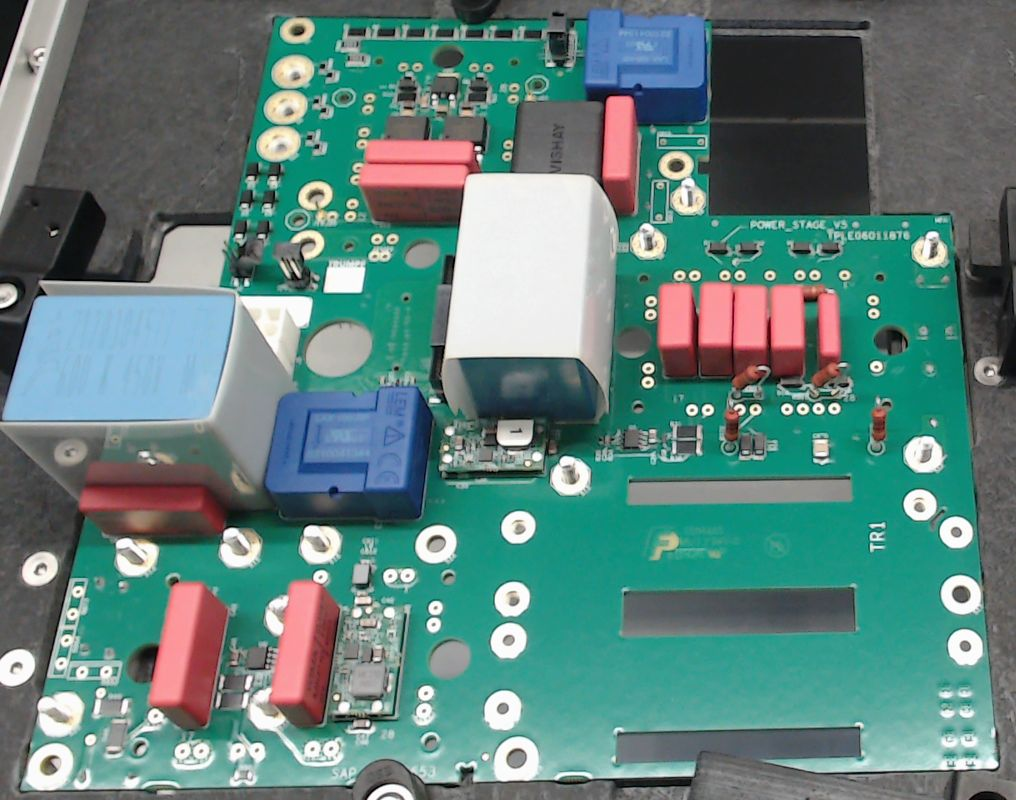comp1: (265, 385, 436, 523), (585, 10, 714, 125)
comp2: (150, 582, 230, 731), (270, 579, 339, 729), (77, 485, 226, 540), (361, 164, 471, 222), (658, 280, 699, 382), (604, 96, 639, 211), (697, 282, 734, 379), (734, 285, 772, 377), (771, 283, 805, 376), (363, 139, 476, 164), (816, 291, 842, 371)
comp3: (514, 100, 605, 178)
comp4: (1, 280, 300, 514), (440, 174, 620, 429)
